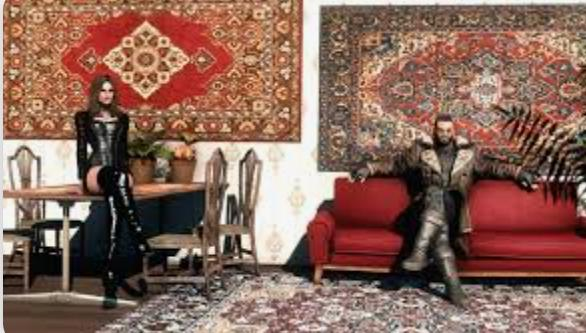carpet: (318, 5, 586, 170), (3, 0, 302, 141), (100, 267, 586, 331)
